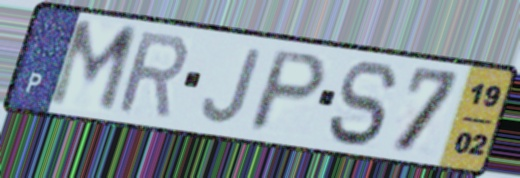7: (392, 63, 466, 157)
J: (199, 46, 266, 126)
M: (43, 17, 143, 118)
P: (243, 47, 331, 135)
R: (114, 29, 191, 122)
S: (324, 58, 402, 149)
